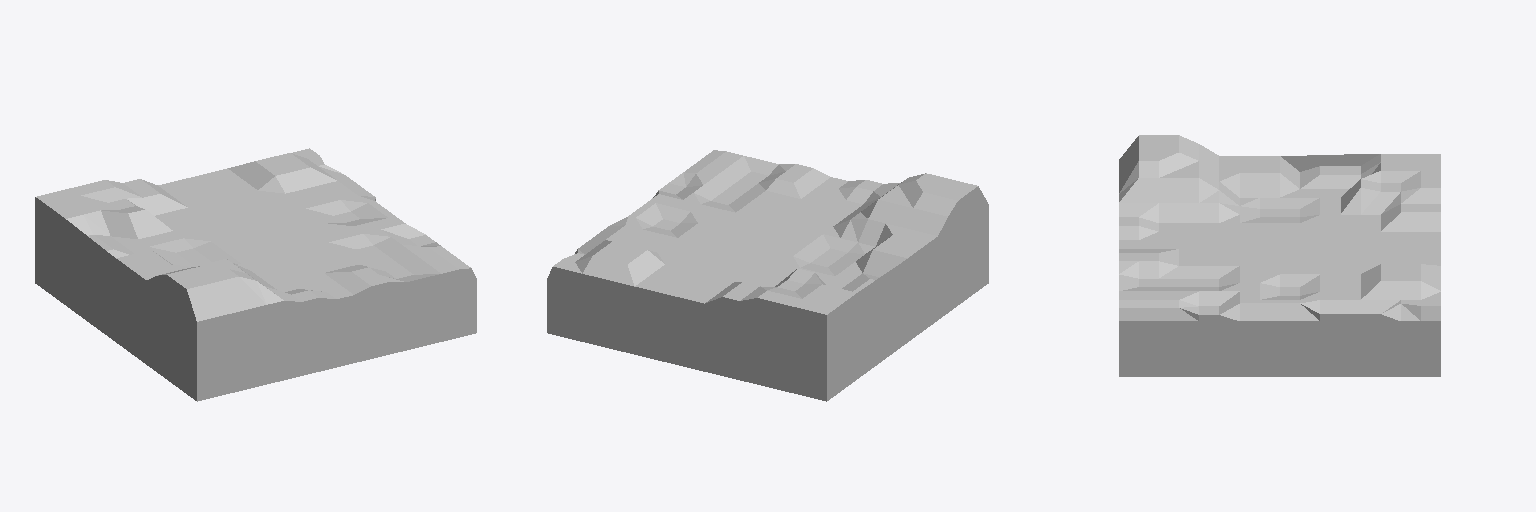
The model's file is cenario4.obj.
The picture shows the model from 3 angles: view 1: azimuth 30°, elevation 25°; view 2: azimuth 150°, elevation 25°; view 3: azimuth 270°, elevation 25°; orthographic projection.
Parts seen in each view (by area): view 1: base_relevo2_Cube.003; view 2: base_relevo2_Cube.003; view 3: base_relevo2_Cube.003.
Part boxes in pixels (x1,y1,x2,y2): base_relevo2_Cube.003: (35,148,476,401); base_relevo2_Cube.003: (547,150,988,401); base_relevo2_Cube.003: (1119,135,1440,376).
Bounding box in the file's own units: 2 × 0.7174 × 2.